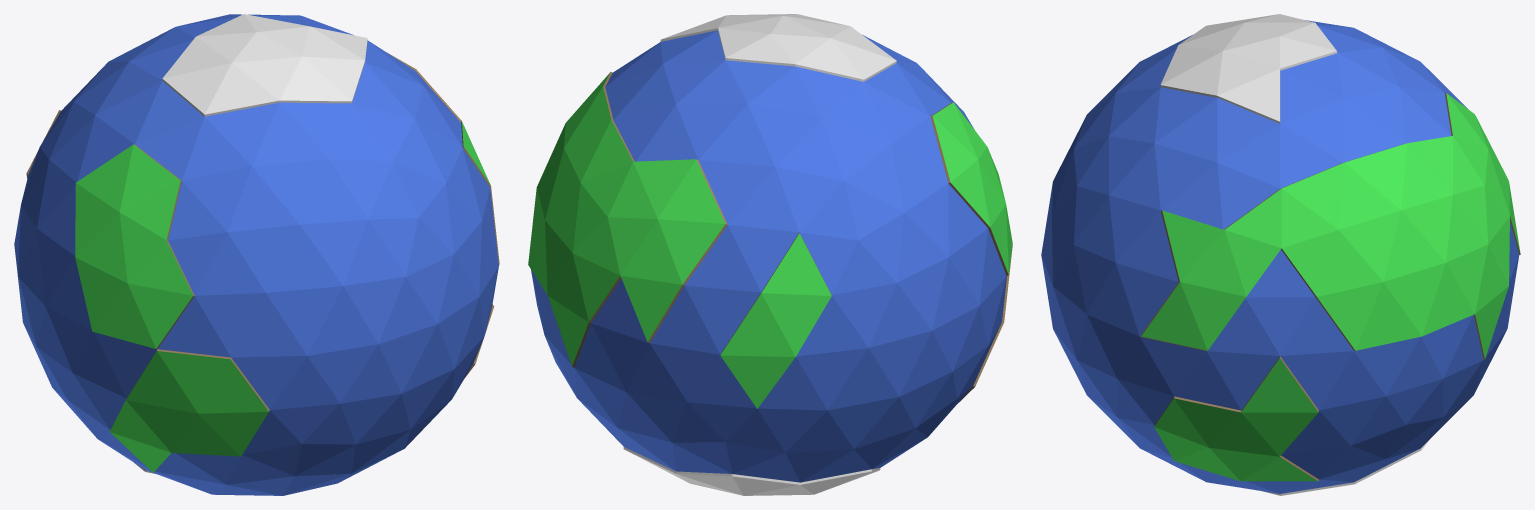
File: Planet.fbx
3 renders of one model, left to right at view 1: azimuth 30°, elevation 25°; view 2: azimuth 150°, elevation 25°; view 3: azimuth 270°, elevation 25°, orthographic.
Visible parts, largest first — view 1: Icosphere; view 2: Icosphere; view 3: Icosphere.
Boxes of the visible parts, x1=… form: Icosphere: x1=14, y1=14, x2=499, y2=495; Icosphere: x1=528, y1=14, x2=1012, y2=495; Icosphere: x1=1041, y1=14, x2=1520, y2=495.
Size of the model in its own units: 201 by 202 by 201.
